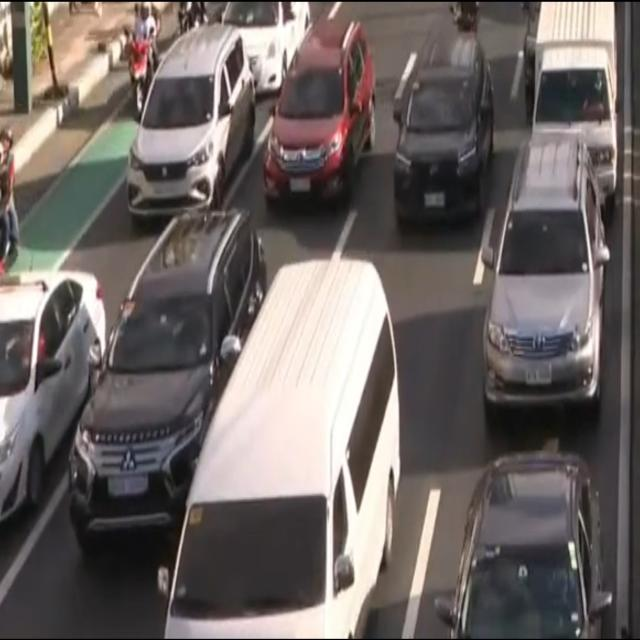Motorcycle: (126, 0, 163, 110), (0, 128, 19, 274)
Pick-up: (533, 0, 618, 209)
SUV: (68, 209, 268, 557), (482, 136, 601, 407), (125, 22, 255, 223), (267, 18, 373, 206), (392, 32, 493, 224)
Sedan: (437, 441, 613, 640), (0, 268, 104, 521), (214, 1, 316, 97)
Van: (165, 259, 399, 640)
